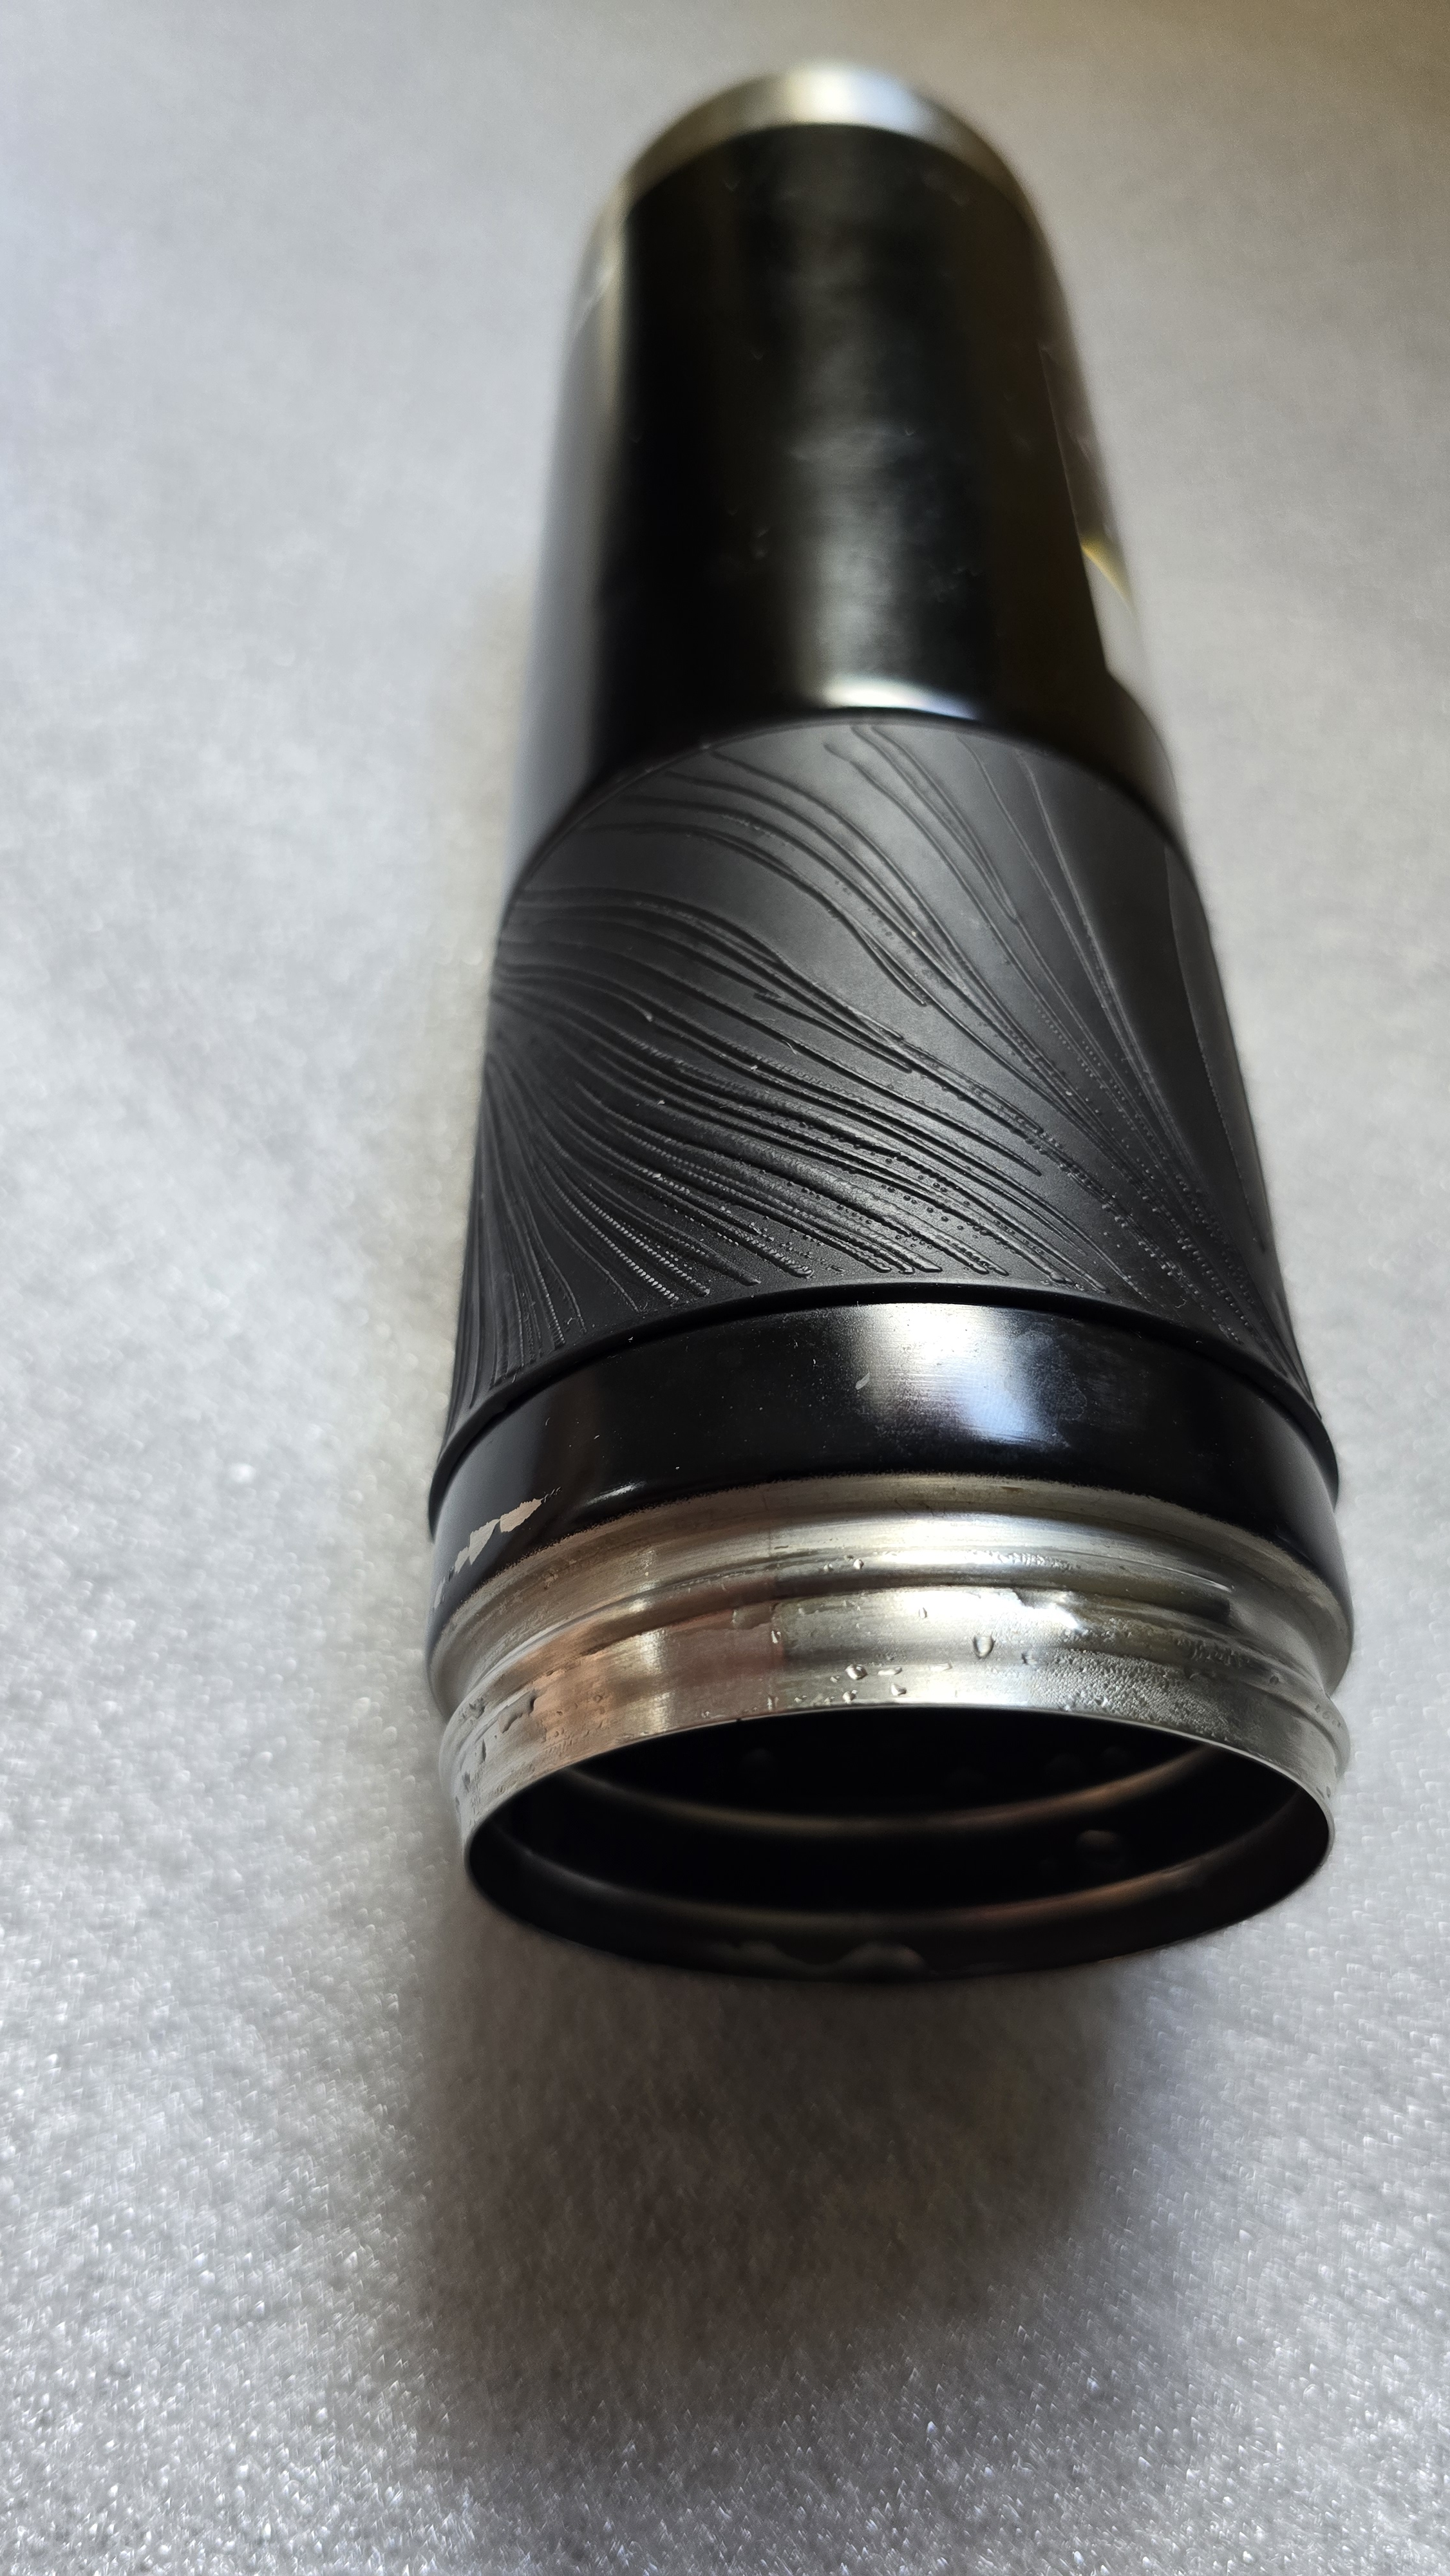bottle: (401, 64, 1365, 1960)
